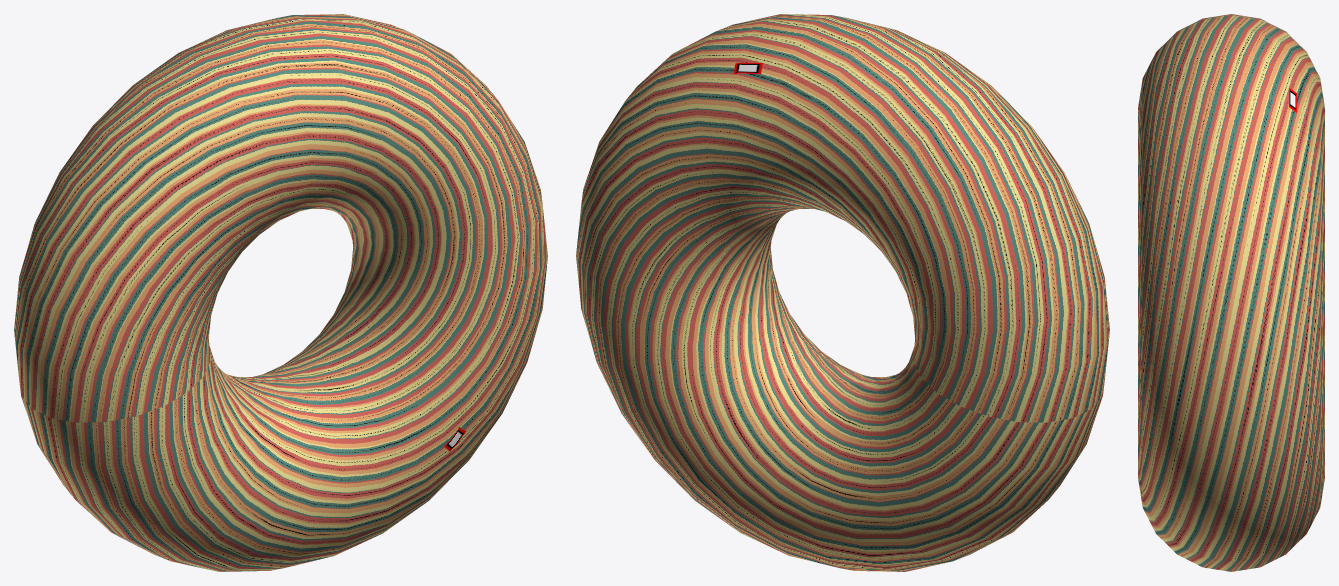
File: uv_checkerboard_res_1024_iter_765_cat_map.glb
3 renders of one model, left to right at view 1: azimuth 30°, elevation 25°; view 2: azimuth 150°, elevation 25°; view 3: azimuth 270°, elevation 25°, orthographic. The views are drawn at different scales.
Visible parts, largest first — view 1: Node; view 2: Node; view 3: Node.
Boxes of the visible parts, x1,y1,x2,y2 form: Node: (14,14,547,571); Node: (576,14,1109,571); Node: (1138,14,1324,571).
Size of the model in its own units: 3 by 2.98 by 1.
1 material, 1 textured.
